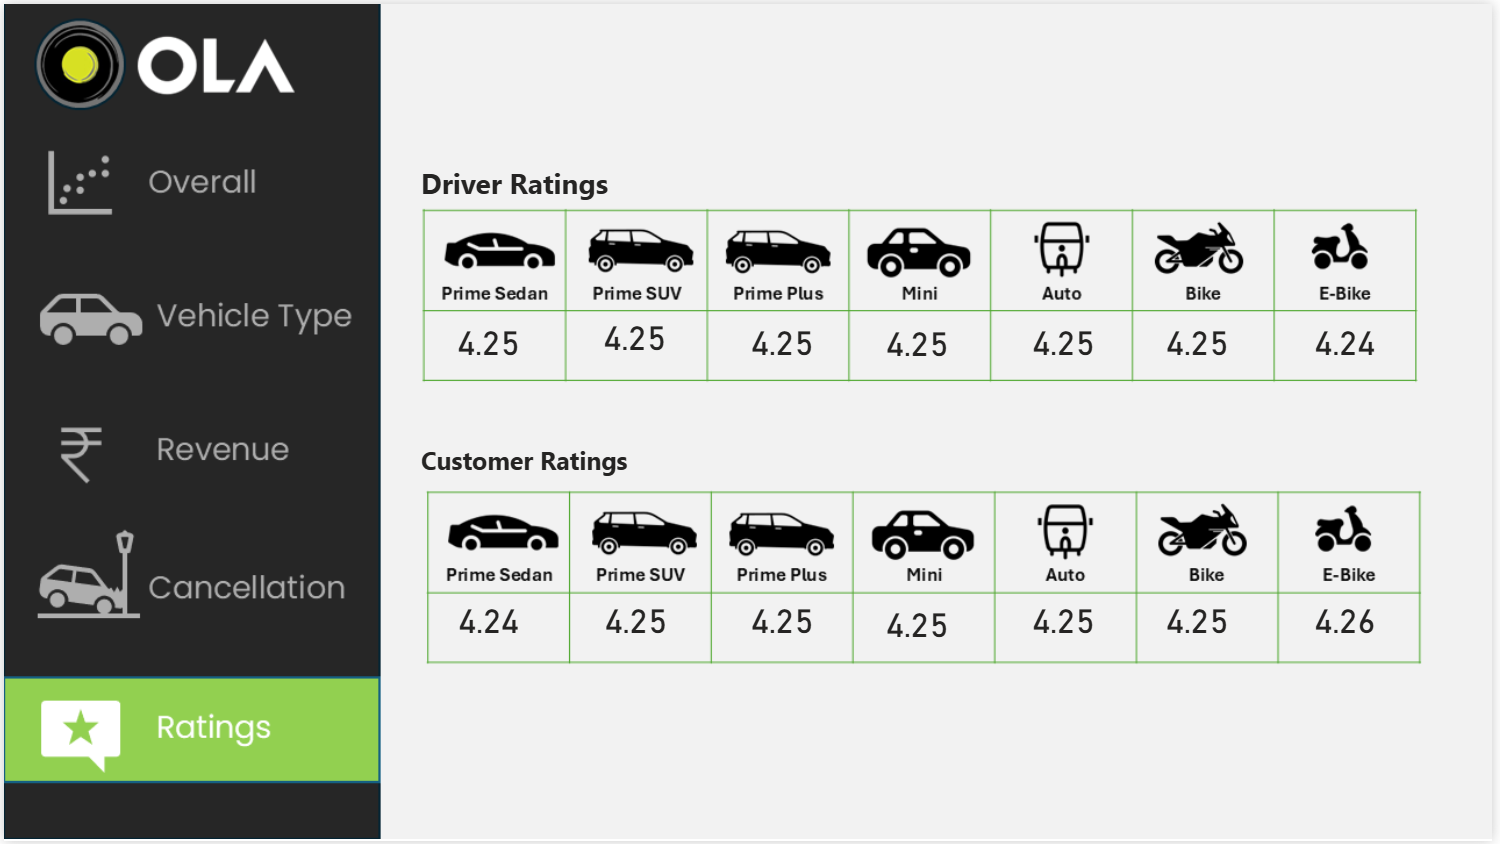

The page's visual inventory and layout, read from the dashboard file:
{"tool":"powerbi","page":{"name":"Ratings","canvas":[1280,720],"ordinal":4},"visuals":[{"type":"textbox","box":[0,113.9,322.5,86.4],"z":0},{"type":"textbox","box":[0,225,322.5,86.4],"z":1000},{"type":"textbox","box":[0,341.7,322.5,86.4],"z":2000},{"type":"textbox","box":[0,458.3,322.5,86.4],"z":3000},{"type":"card","fields":{"Values":["Avg(Ride_Data.Driver_Ratings)"]},"box":[354.1,252,126.8,77.3],"z":3001},{"type":"card","fields":{"Values":["Avg(Ride_Data.Driver_Ratings)"]},"box":[848.9,252,126.8,77.3],"z":3002},{"type":"card","fields":{"Values":["Avg(Ride_Data.Driver_Ratings)"]},"box":[963.3,252,126.8,77.3],"z":3003},{"type":"card","fields":{"Values":["Avg(Ride_Data.Driver_Ratings)"]},"box":[1090.1,252,126.8,77.3],"z":3004},{"type":"card","fields":{"Values":["Avg(Ride_Data.Driver_Ratings)"]},"box":[479.3,247.4,126.8,77.3],"z":3005},{"type":"card","fields":{"Values":["Avg(Ride_Data.Driver_Ratings)"]},"box":[606.1,252,126.8,77.3],"z":3006},{"type":"card","fields":{"Values":["Avg(Ride_Data.Driver_Ratings)"]},"box":[722.1,256.7,126.8,68],"z":3007},{"type":"textbox","box":[354.1,133,188.6,47.9],"z":3008},{"type":"textbox","box":[354.1,372.7,188.6,43.3],"z":3009},{"type":"card","fields":{"Values":["Avg(Ride_Data.Customer_Rating)"]},"box":[354.1,490.2,126.8,77.3],"z":3010},{"type":"card","fields":{"Values":["Avg(Ride_Data.Customer_Rating)"]},"box":[480.9,490.2,126.8,77.3],"z":3011},{"type":"card","fields":{"Values":["Avg(Ride_Data.Customer_Rating)"]},"box":[606.1,490.2,126.8,77.3],"z":3012},{"type":"card","fields":{"Values":["Avg(Ride_Data.Customer_Rating)"]},"box":[722.1,499.4,126.8,68],"z":3013},{"type":"card","fields":{"Values":["Avg(Ride_Data.Customer_Rating)"]},"box":[848.9,490.2,126.8,77.3],"z":3014},{"type":"card","fields":{"Values":["Avg(Ride_Data.Customer_Rating)"]},"box":[963.3,490.2,126.8,77.3],"z":3015},{"type":"card","fields":{"Values":["Avg(Ride_Data.Customer_Rating)"]},"box":[1090.1,490.2,126.8,77.3],"z":3016}]}

Visuals, with their boxes on the page's 1280x720 design canvas (x1, y1, x2, y2). These are canvas units, not pixel positions in the 1500x844 screenshot, which may show the page scaled, cropped or inside an application window:
textbox: Rect(0, 114, 322, 200)
textbox: Rect(0, 225, 322, 311)
textbox: Rect(0, 342, 322, 428)
textbox: Rect(0, 458, 322, 545)
card - Avg(Ride_Data.Driver_Ratings): Rect(354, 252, 481, 329)
card - Avg(Ride_Data.Driver_Ratings): Rect(849, 252, 976, 329)
card - Avg(Ride_Data.Driver_Ratings): Rect(963, 252, 1090, 329)
card - Avg(Ride_Data.Driver_Ratings): Rect(1090, 252, 1217, 329)
card - Avg(Ride_Data.Driver_Ratings): Rect(479, 247, 606, 325)
card - Avg(Ride_Data.Driver_Ratings): Rect(606, 252, 733, 329)
card - Avg(Ride_Data.Driver_Ratings): Rect(722, 257, 849, 325)
textbox: Rect(354, 133, 543, 181)
textbox: Rect(354, 373, 543, 416)
card - Avg(Ride_Data.Customer_Rating): Rect(354, 490, 481, 568)
card - Avg(Ride_Data.Customer_Rating): Rect(481, 490, 608, 568)
card - Avg(Ride_Data.Customer_Rating): Rect(606, 490, 733, 568)
card - Avg(Ride_Data.Customer_Rating): Rect(722, 499, 849, 567)
card - Avg(Ride_Data.Customer_Rating): Rect(849, 490, 976, 568)
card - Avg(Ride_Data.Customer_Rating): Rect(963, 490, 1090, 568)
card - Avg(Ride_Data.Customer_Rating): Rect(1090, 490, 1217, 568)
